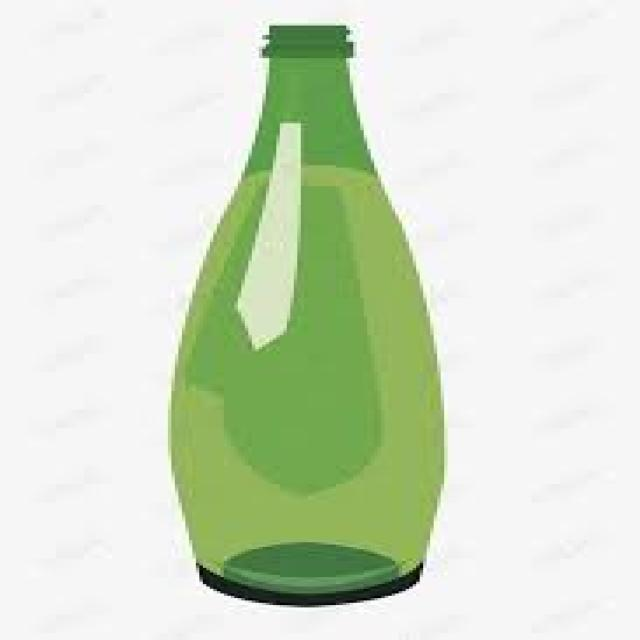glass: (164, 21, 441, 605)
